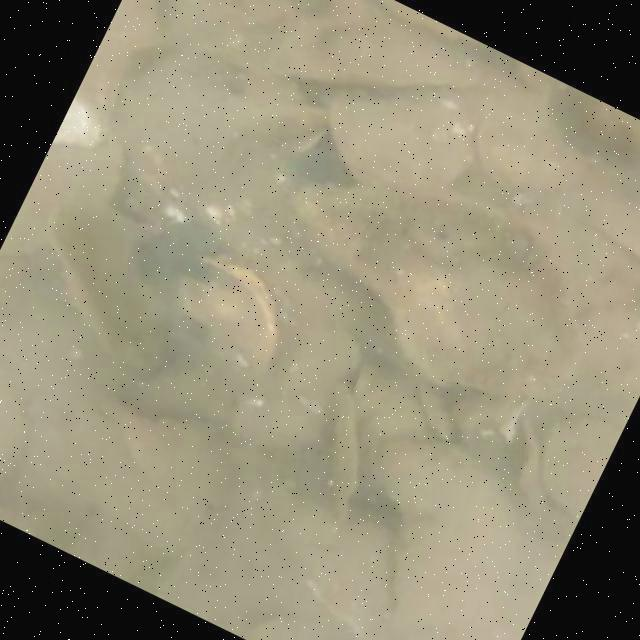Oyster-Closed: (290, 181, 582, 397), (377, 439, 519, 629), (326, 94, 477, 185), (123, 408, 233, 503), (539, 418, 619, 520)
Oyster-Open: (174, 254, 273, 369)
